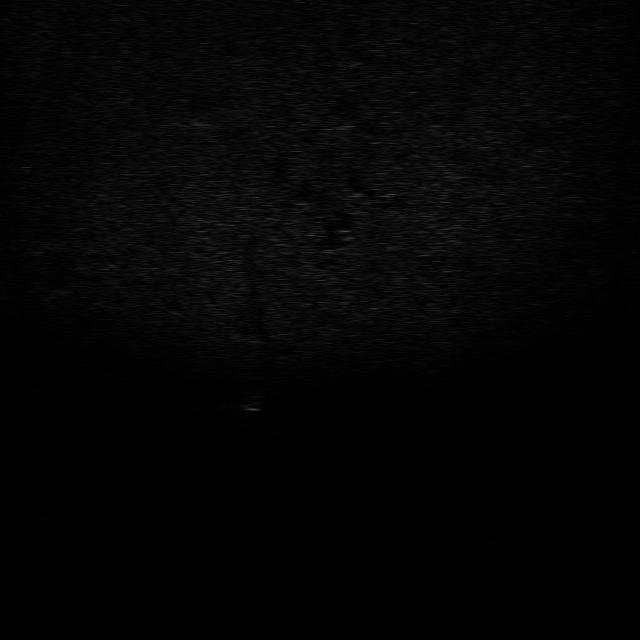human body: (239, 376, 271, 422)
